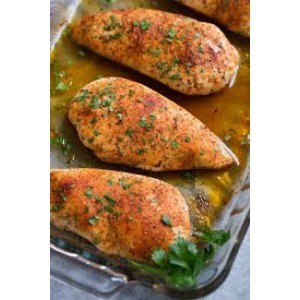chicken breast_brain food: (64, 186, 189, 240), (92, 118, 195, 161), (108, 28, 209, 66)
